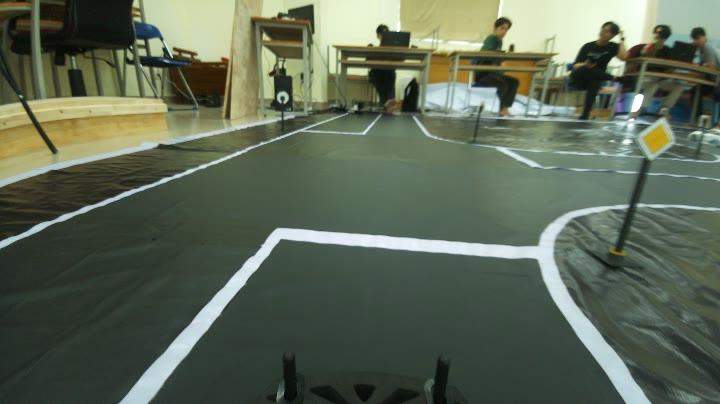priority: (628, 113, 679, 160)
